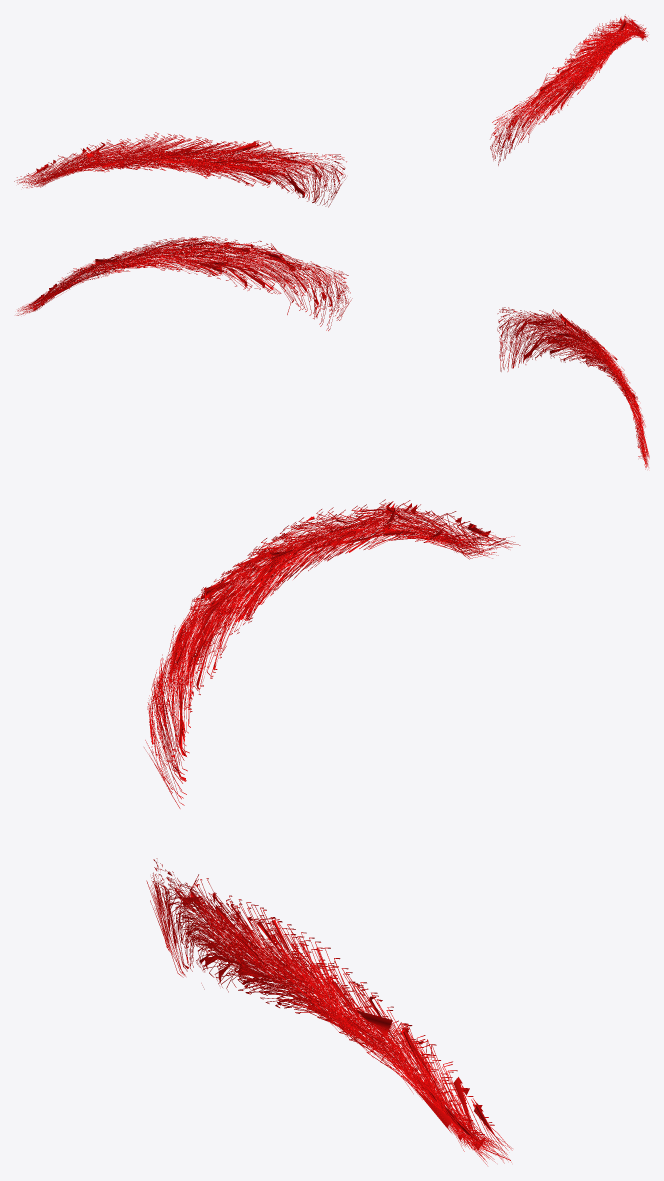
File: mindfront_eyebrows_11_M.glb
The picture shows the model from 3 angles, top to bottom: view 1: azimuth 30°, elevation 25°; view 2: azimuth 150°, elevation 25°; view 3: azimuth 270°, elevation 25°; orthographic projection. The views are drawn at different scales.
Bounding box in the file's own units: 0.1227 × 0.0158 × 0.0318.
1 material, 1 textured.
